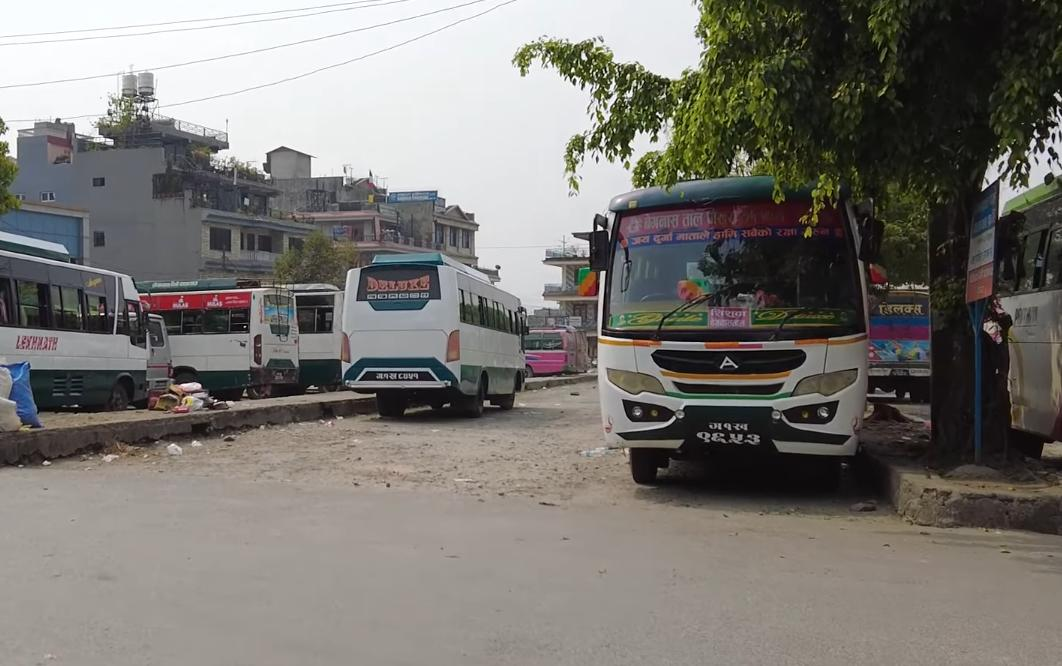bus: (607, 158, 878, 498), (332, 248, 530, 420), (0, 230, 158, 417), (146, 279, 305, 399), (526, 321, 578, 377)
